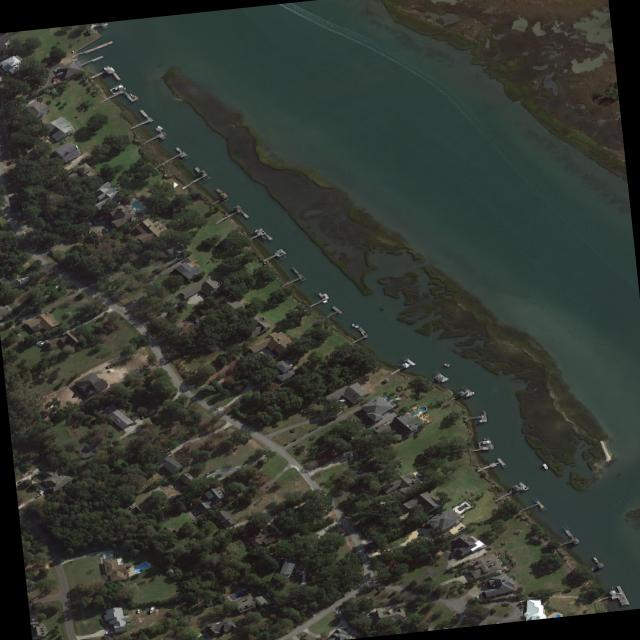ship: (113, 83, 124, 89), (350, 321, 359, 327), (253, 226, 263, 231), (181, 256, 191, 261), (465, 390, 475, 395), (148, 605, 155, 612), (541, 462, 549, 468), (128, 501, 136, 507), (440, 376, 449, 381), (322, 292, 329, 298), (17, 276, 25, 281), (34, 492, 42, 497), (442, 361, 450, 366), (478, 417, 487, 421), (483, 439, 492, 443), (17, 477, 24, 482), (522, 485, 529, 490), (458, 523, 465, 528), (155, 124, 163, 128), (185, 258, 192, 262)
small-vehicle: (265, 590, 271, 596), (203, 471, 210, 475), (208, 468, 215, 472), (51, 76, 56, 81), (137, 608, 140, 612)
